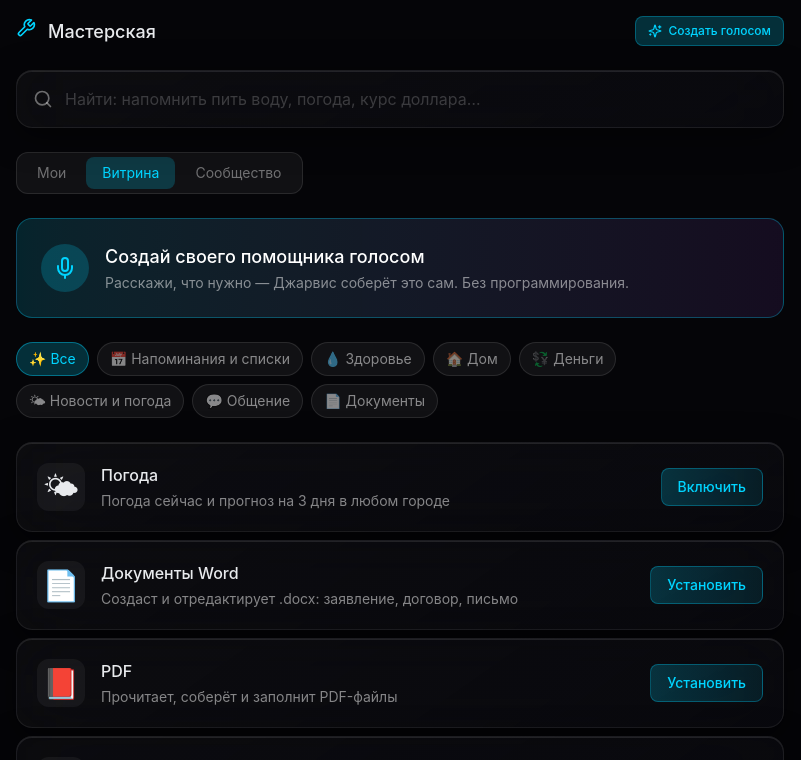
Test: AgentStore (Мастерская) › Мои with nothing enabled shows the friendly empty state
Step 1. Click the button "Мои" → (52, 173), box [21,157,82,189]
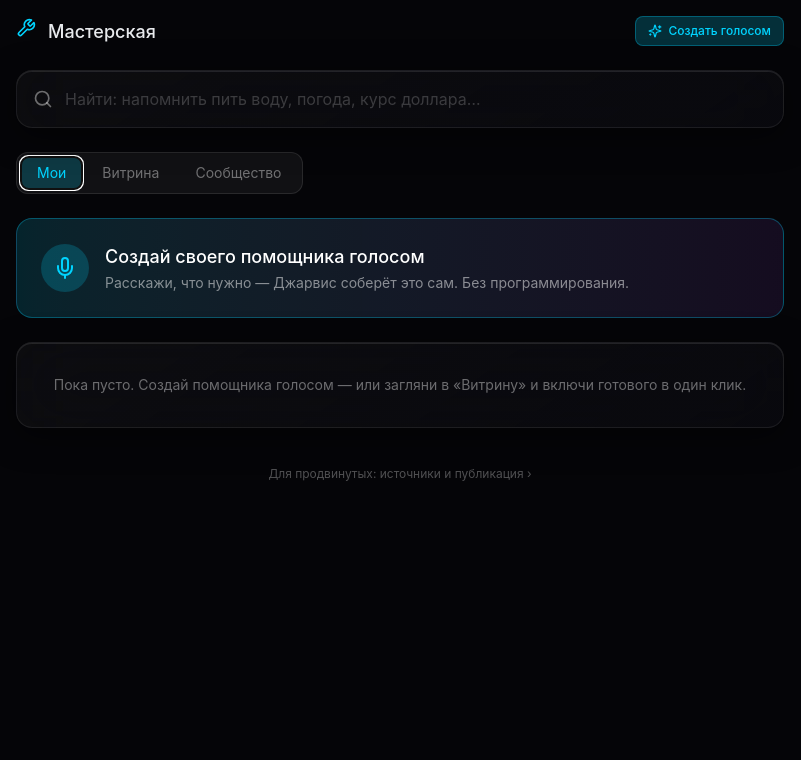
Check: the text "Пока пусто" is shown, box [54,376,746,393]
